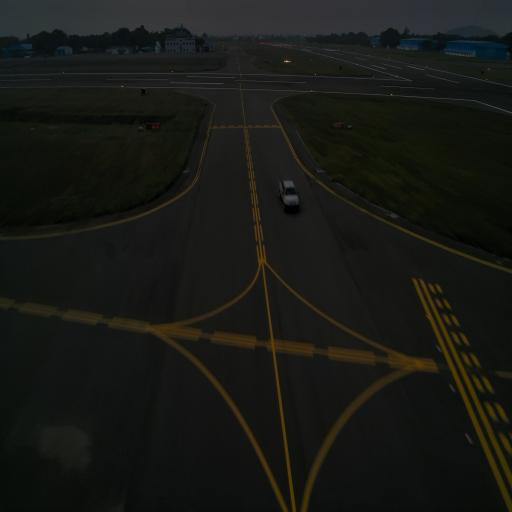on: (316, 165, 321, 171), (186, 166, 190, 172)
